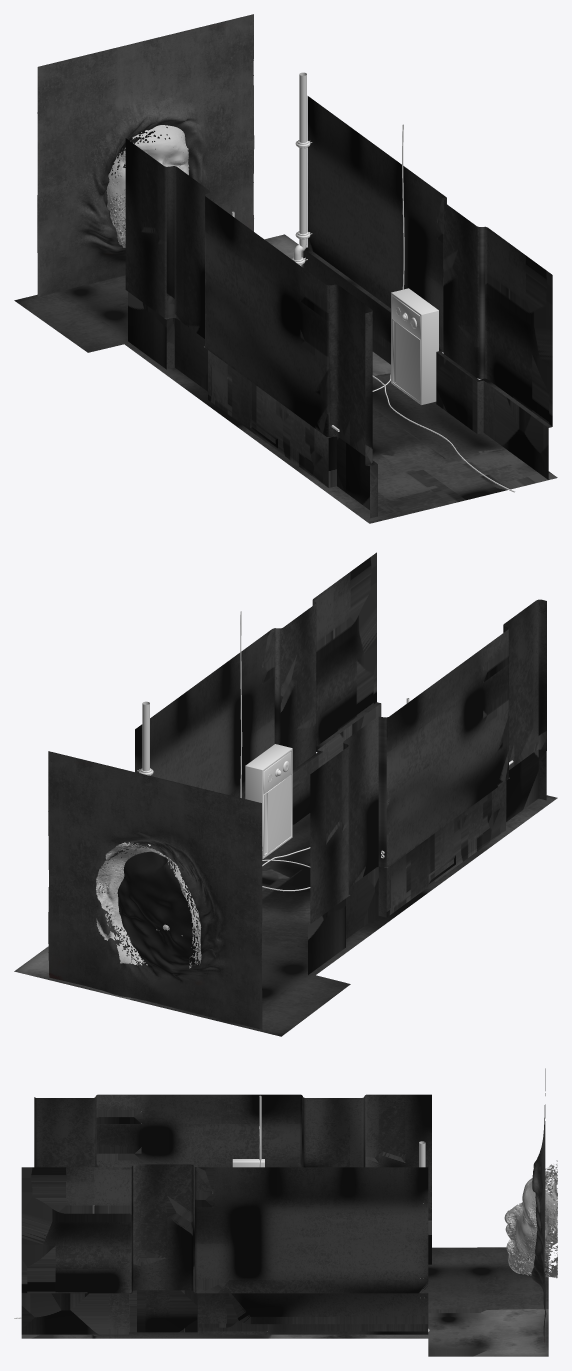
The model's file is focused.gltf.
3 renders of one model, top to bottom at view 1: azimuth 30°, elevation 25°; view 2: azimuth 150°, elevation 25°; view 3: azimuth 270°, elevation 25°, orthographic. The views are drawn at different scales.
Visible parts, largest first — view 1: Wall.001, Face_Wall, Floor, Wall.003, Plane.001, Face, BezierCurve.003, BezierCurve.002; view 2: Wall.001, Face_Wall, Wall.003, Floor, Plane.001, Face, BezierCurve.002; view 3: Wall.001, Wall.003, Floor, Face, Face_Wall.
Part boxes in pixels (<box>): Wall.001: <box>125,96,552,465</box>; Face_Wall: <box>37,14,254,296</box>; Floor: <box>14,234,557,523</box>; Wall.003: <box>128,247,552,518</box>; Plane.001: <box>391,288,438,405</box>; Face: <box>106,125,188,247</box>; BezierCurve.003: <box>293,72,306,266</box>; BezierCurve.002: <box>372,124,514,492</box>; Wall.001: <box>135,552,546,923</box>; Face_Wall: <box>48,751,262,1029</box>; Wall.003: <box>292,702,546,974</box>; Floor: <box>14,795,557,1036</box>; Plane.001: <box>245,744,292,859</box>; Face: <box>96,842,201,968</box>; BezierCurve.002: <box>240,611,310,891</box>; Wall.001: <box>21,1094,431,1293</box>; Wall.003: <box>21,1220,431,1334</box>; Floor: <box>21,1247,548,1356</box>; Face: <box>504,1160,557,1278</box>; Face_Wall: <box>530,1068,546,1342</box>.
Bounding box in the file's own units: 4.76 × 4.23 × 9.98.
Materials: 7 (3 with a texture image).
